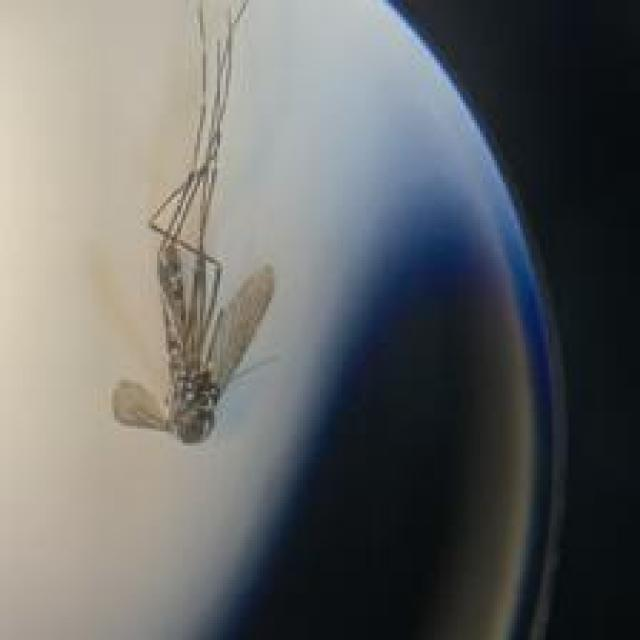Aedes albopictus: (110, 0, 279, 446)
